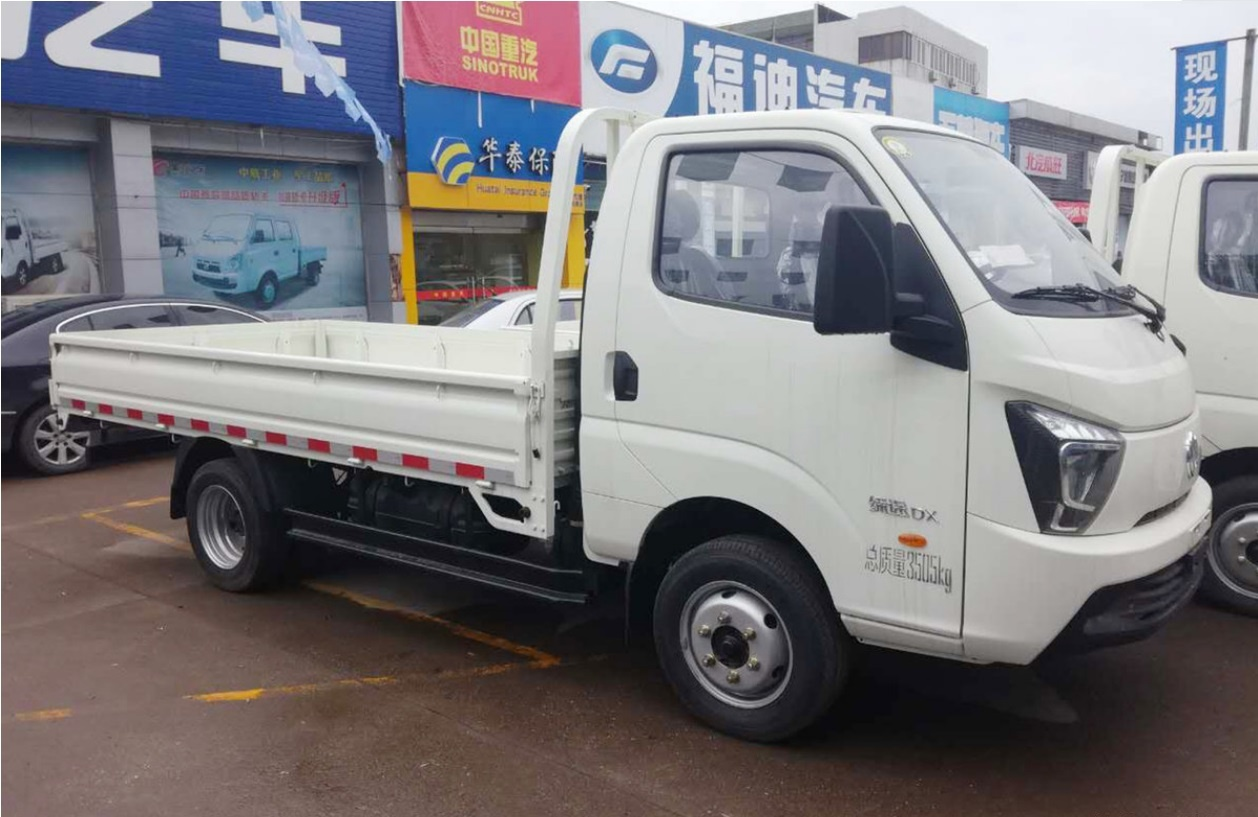truck: (41, 62, 1178, 762)
